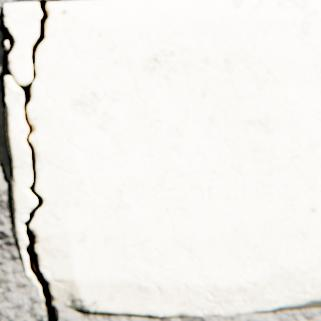broken_brick: (28, 0, 320, 316), (5, 74, 40, 288), (4, 3, 40, 83), (5, 41, 7, 48)
crack: (0, 0, 57, 320)
